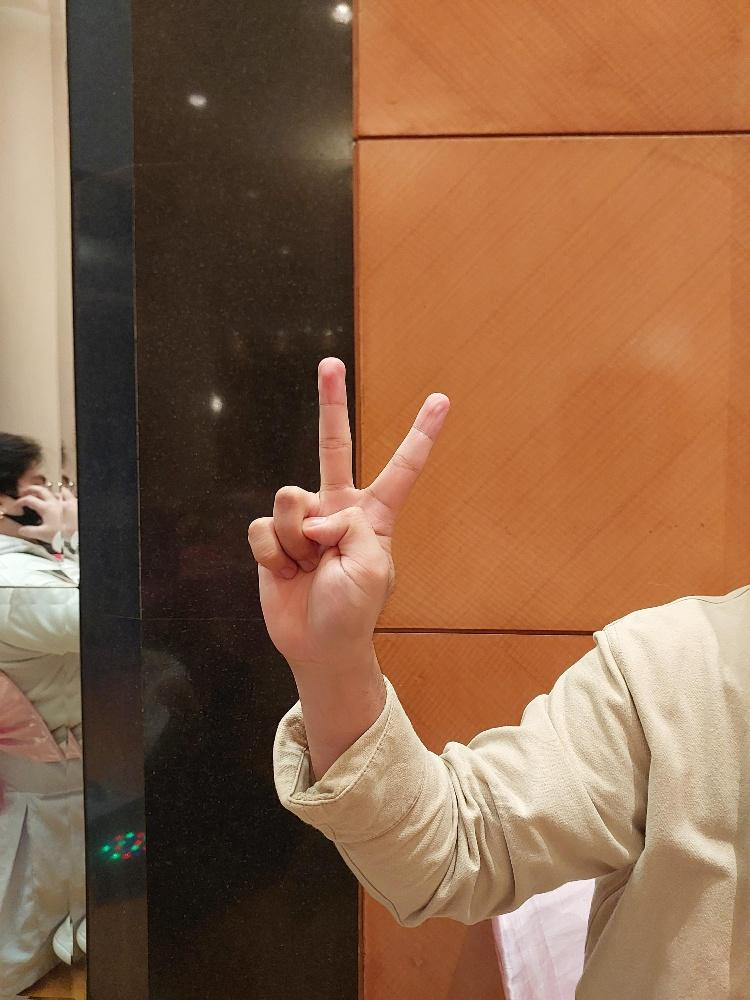v: (245, 351, 453, 659)
